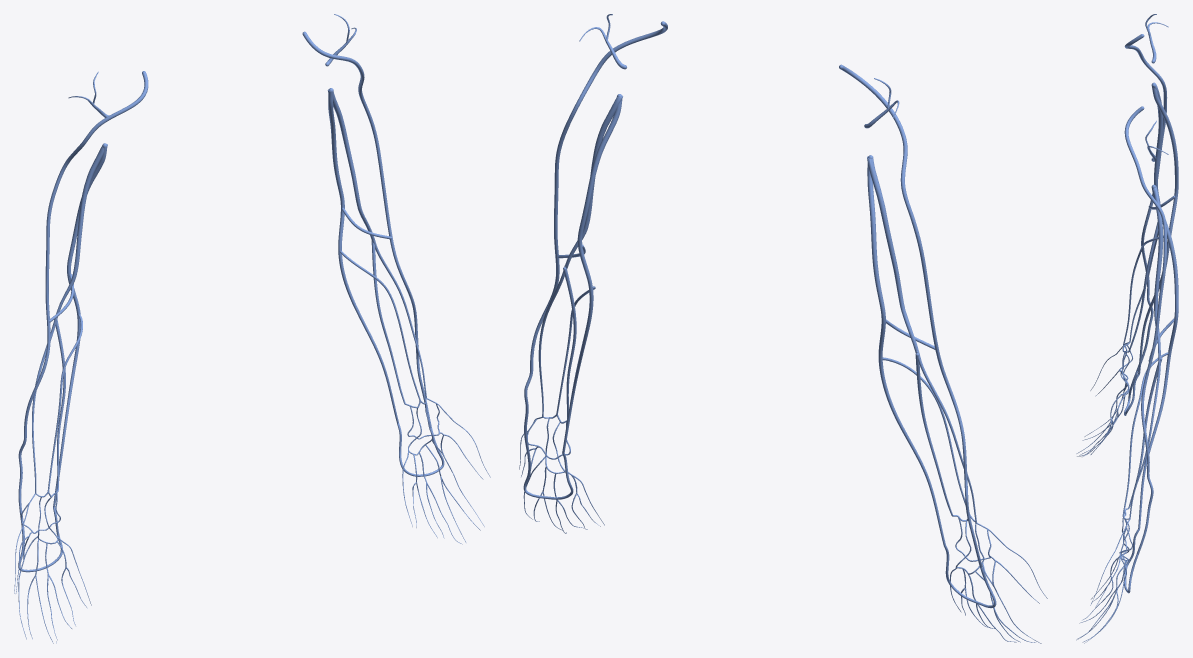
Rendered from veines-membre-sup.lo.glb.
The picture shows the model from 3 angles, left to right: view 1: azimuth 30°, elevation 25°; view 2: azimuth 150°, elevation 25°; view 3: azimuth 270°, elevation 25°; orthographic projection. The views are drawn at different scales.
Parts seen in each view (by area): view 1: FJ2272, FJ2220, FJ2218, FJ2270, FJ2341, FJ2313; view 2: FJ2272, FJ2220, FJ2270, FJ2218, FJ2341; view 3: FJ2220, FJ2218, FJ2272, FJ2270, FJ2313, FJ2341, FJ2234, FJ2244, FJ2260, FJ2312, FJ2286, FJ2228 (+4 smaller).
Boxes of the visible parts, box(x1,y1,x2,y2) form: FJ2272: box(18, 71, 148, 526); FJ2220: box(302, 31, 431, 427); FJ2218: box(328, 88, 398, 423); FJ2270: box(53, 143, 107, 507); FJ2341: box(55, 144, 107, 319); FJ2313: box(327, 89, 375, 241); FJ2272: box(839, 64, 982, 567); FJ2220: box(524, 21, 667, 457); FJ2270: box(867, 155, 945, 545); FJ2218: box(562, 94, 622, 453); FJ2341: box(867, 156, 918, 353); FJ2220: box(1124, 106, 1167, 554); FJ2218: box(1138, 184, 1178, 529); FJ2272: box(1124, 34, 1167, 370); FJ2270: box(1138, 82, 1178, 374); FJ2313: box(1152, 186, 1163, 359); FJ2341: box(1152, 85, 1163, 204); FJ2234: box(1122, 352, 1168, 519); FJ2244: box(1129, 356, 1160, 518); FJ2260: box(1124, 357, 1162, 516); FJ2312: box(1123, 222, 1158, 352); FJ2286: box(1122, 236, 1163, 350); FJ2228: box(1124, 529, 1139, 593).
Size of the model in its own units: 0.6487 by 0.6759 by 0.1308.
